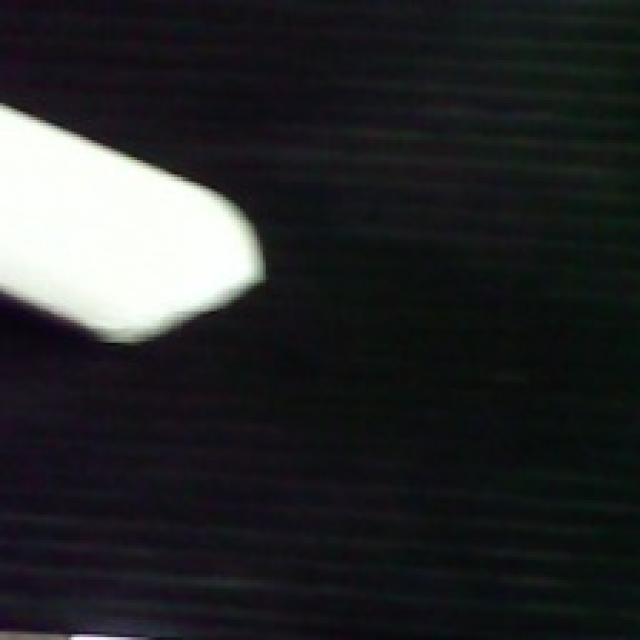defected: (0, 103, 269, 348)
